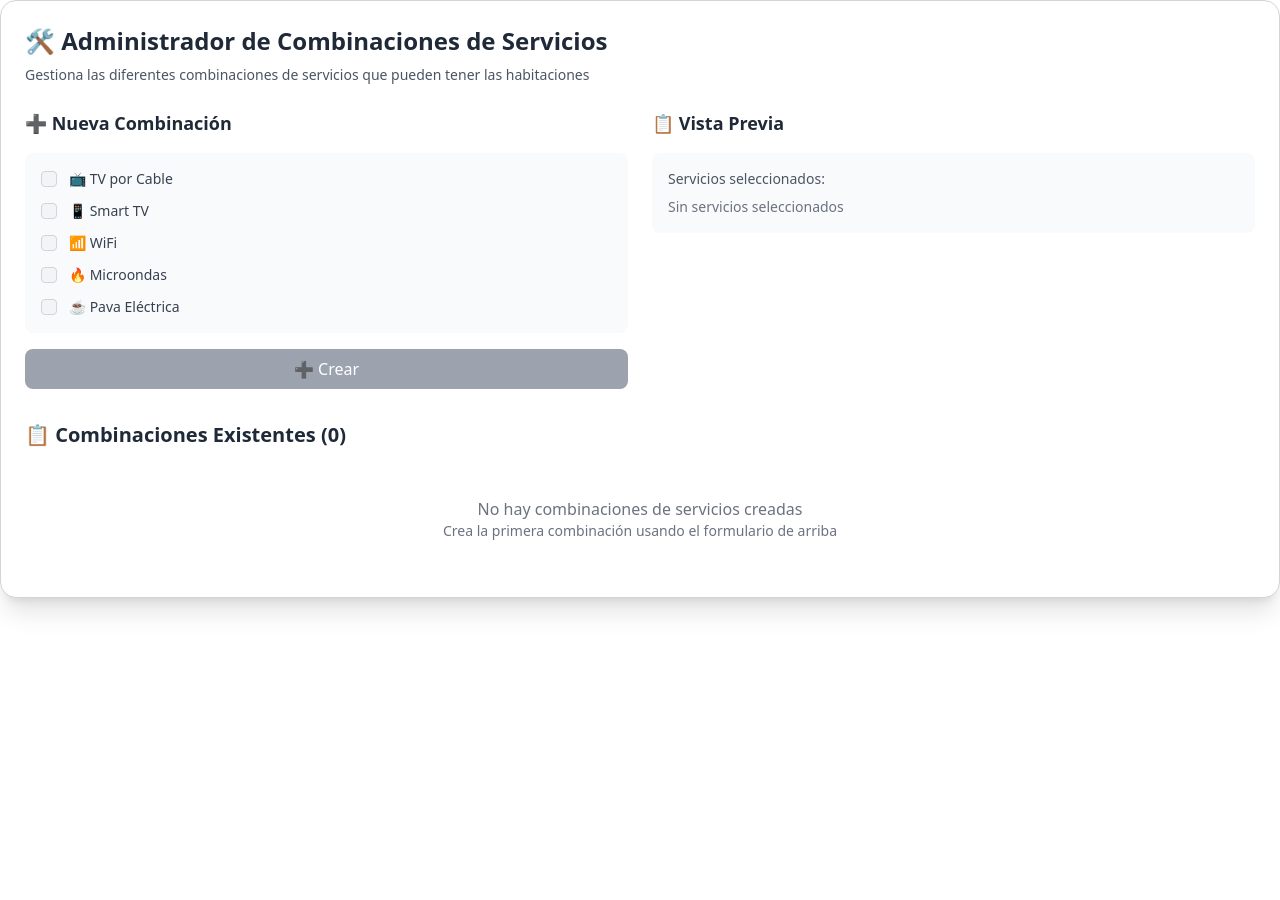
RoomDetailForm › permite crear una nueva combinación de servicios
Click the checkbox labelled "📶 WiFi": (49, 243) [41,235,57,251]
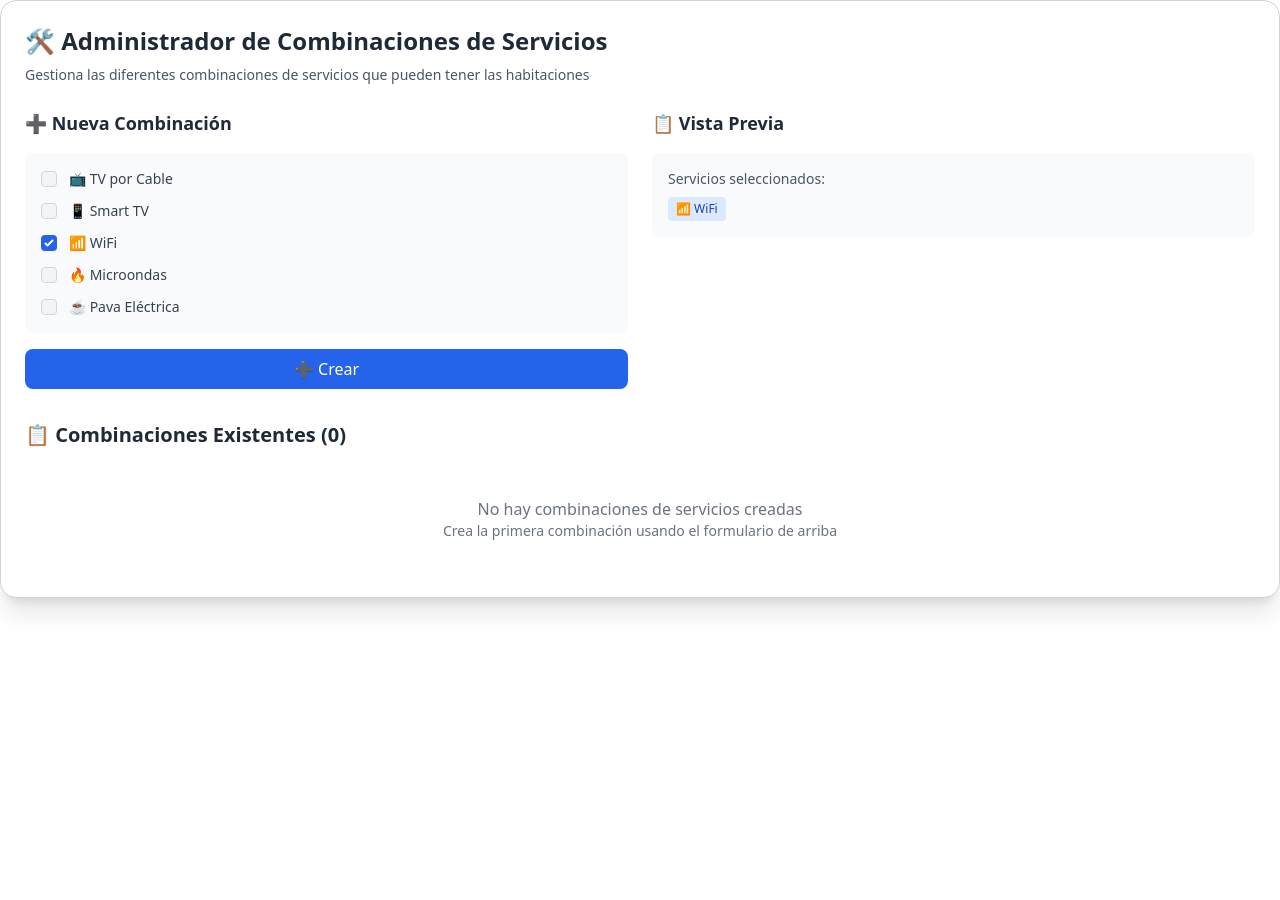
Click the button "➕ Crear": (326, 369) [25,349,628,389]
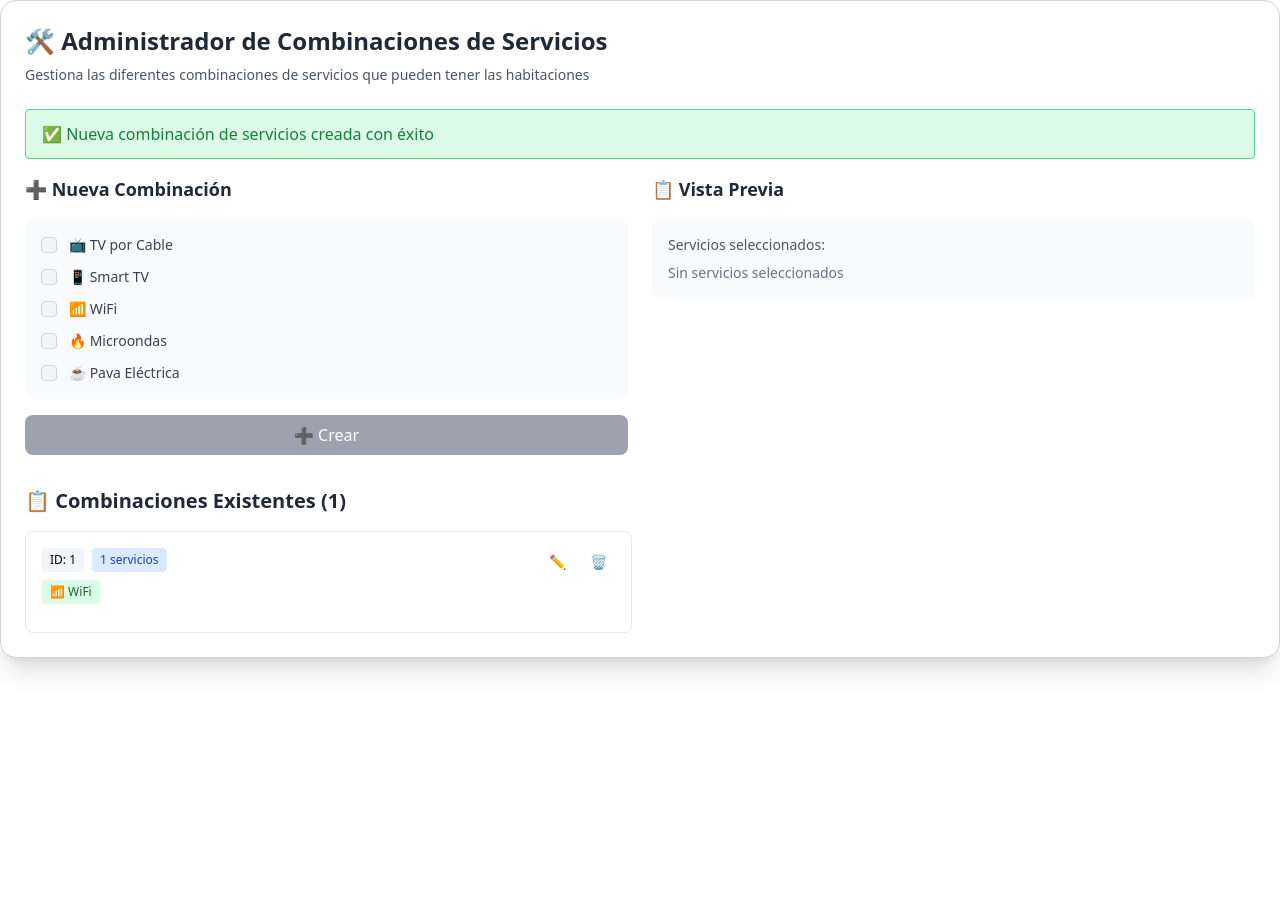
Check: the text "✅ Nueva combinación de servicios creada con éxito" is shown, box [25,109,1255,159]
